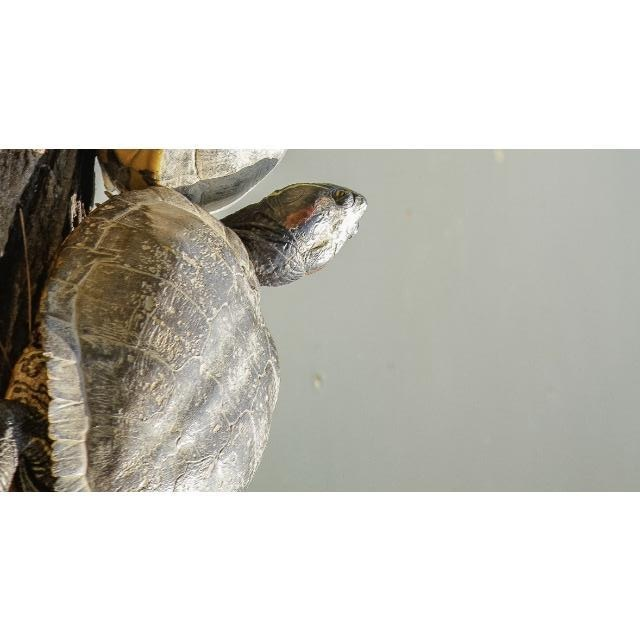turtle: (3, 182, 368, 489)
